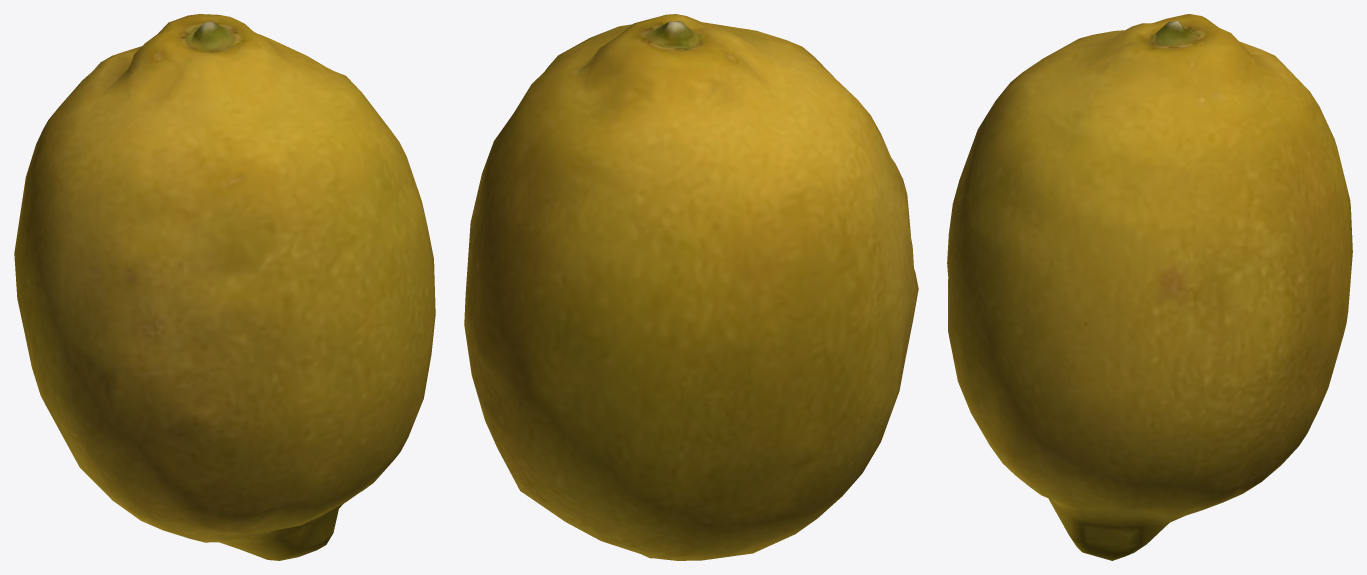
The model's file is lemon.glb.
The picture shows the model from 3 angles, left to right: view 1: azimuth 30°, elevation 25°; view 2: azimuth 150°, elevation 25°; view 3: azimuth 270°, elevation 25°; orthographic projection. The views are drawn at different scales.
Visible parts, largest first — view 1: lemon; view 2: lemon; view 3: lemon.
Part boxes in pixels (x1,y1,x2,y2): lemon: (14,14,435,560); lemon: (464,14,918,560); lemon: (947,14,1352,560).
Size of the model in its own units: 0.0686 by 0.0953 by 0.0682.
Materials: 1 (1 with a texture image).
